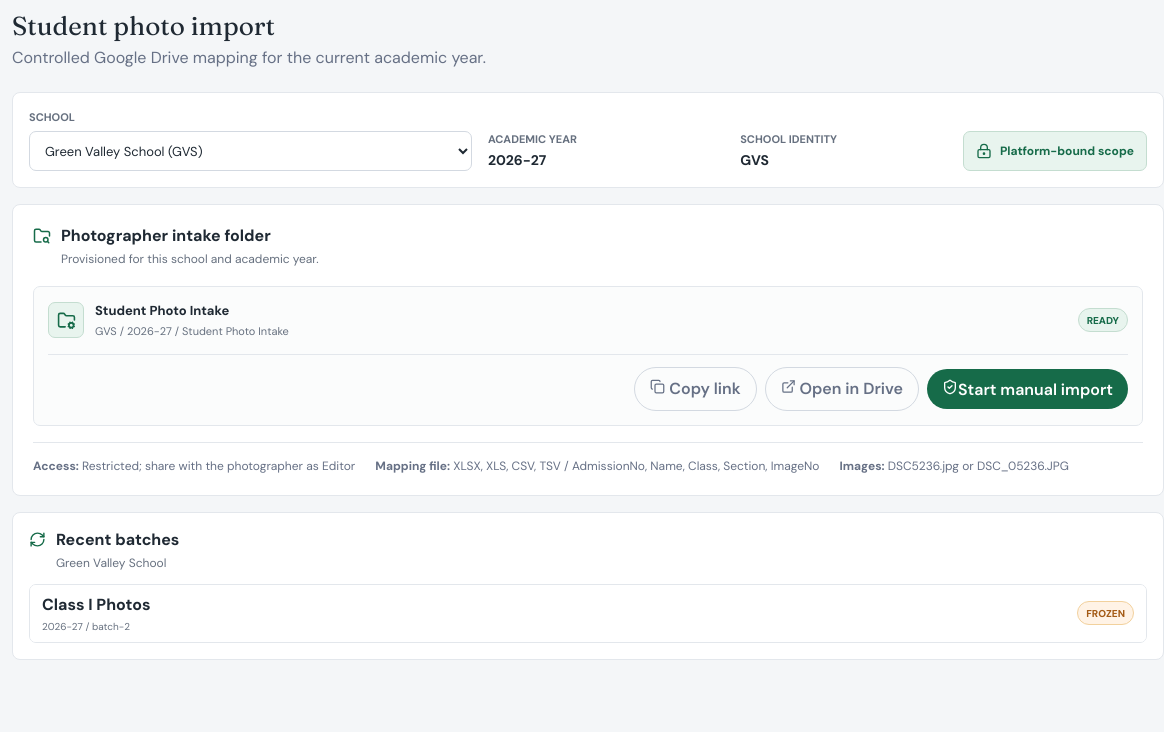
Test case: PhotoImportPanel › clears the previous school history immediately even when the next history request fails
The width and height of the screenshot is (1164, 732).
Check: the button "Class I Photos 2026-27 / batch-2 FROZEN" is shown, box [30, 585, 1146, 642]
Step 1. Select "Treehouse School (THS)" in the dropdown labelled "School" → (250, 151), box [29, 131, 472, 171]
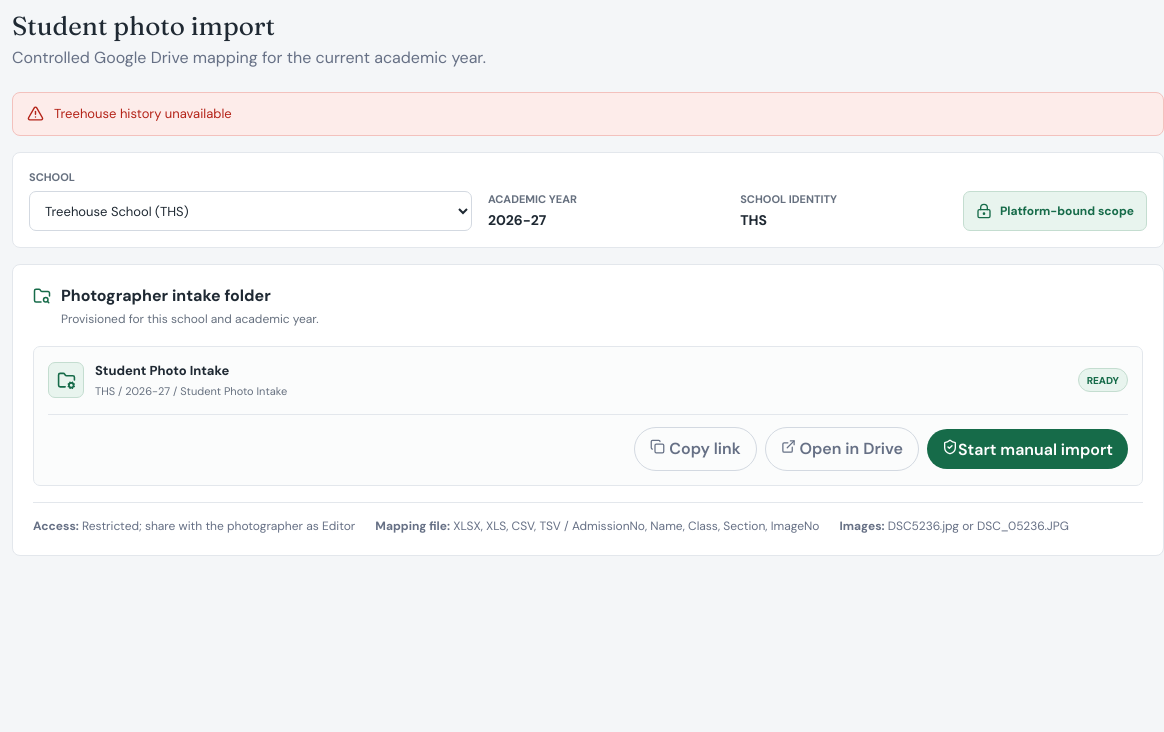
Check: the message reads "Treehouse history unavailable", box [54, 105, 232, 122]
Check: the button "Class I Photos" is gone
